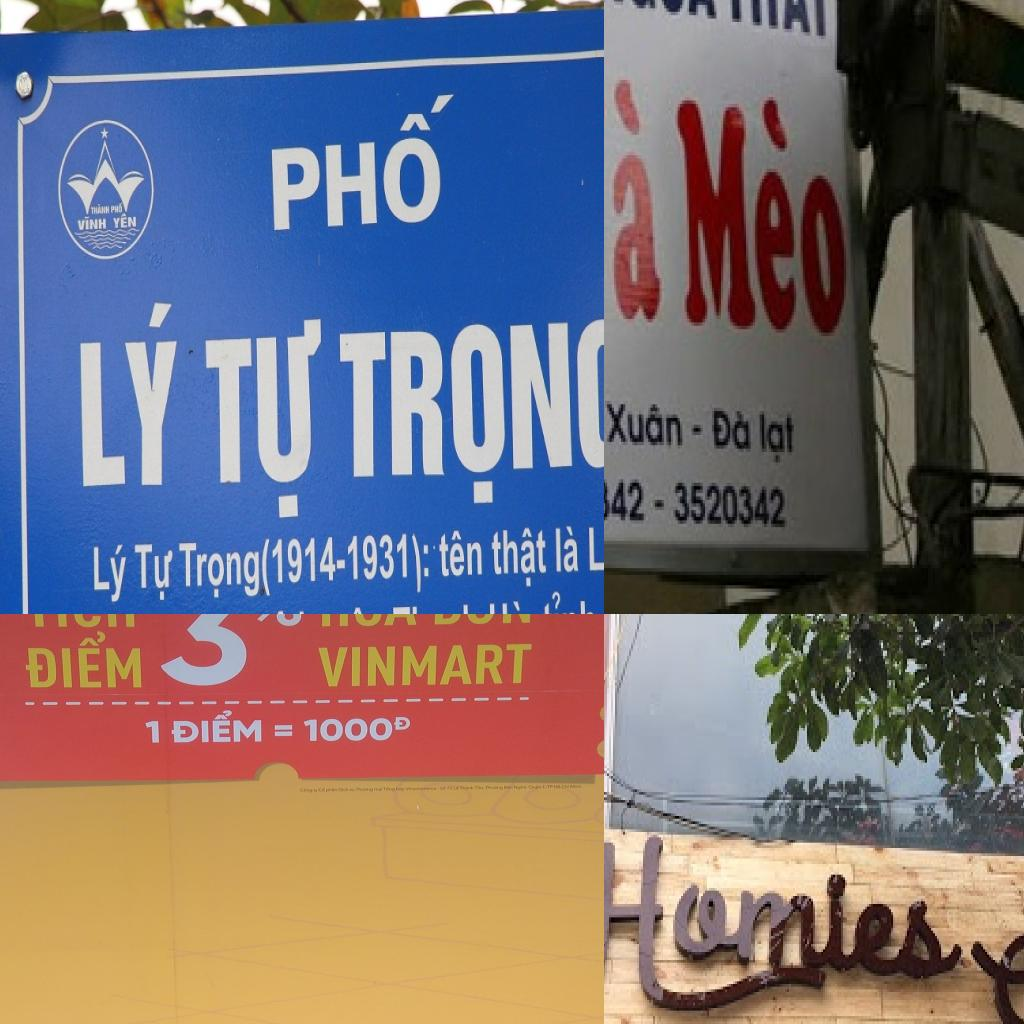text: (604, 824, 967, 1024), (337, 315, 604, 515), (675, 90, 853, 343), (270, 92, 456, 234), (203, 317, 324, 524), (78, 301, 182, 490), (604, 80, 666, 332), (147, 614, 307, 691), (310, 642, 538, 688), (17, 629, 145, 690), (346, 528, 432, 598), (260, 531, 338, 605), (177, 538, 262, 605), (164, 703, 266, 746), (721, 0, 828, 39), (490, 524, 550, 592), (296, 714, 418, 747), (605, 401, 687, 449), (133, 540, 176, 604), (437, 528, 485, 581), (92, 542, 130, 607), (604, 472, 648, 527), (760, 411, 798, 469), (712, 408, 755, 456), (13, 614, 140, 629), (312, 614, 422, 629), (422, 614, 537, 628), (539, 589, 598, 614), (554, 523, 581, 576), (391, 600, 480, 614), (587, 523, 604, 574), (487, 597, 535, 614), (76, 214, 108, 234), (143, 717, 163, 746), (112, 210, 138, 230), (90, 202, 111, 217), (111, 200, 124, 216), (653, 500, 666, 513), (691, 425, 703, 435)
